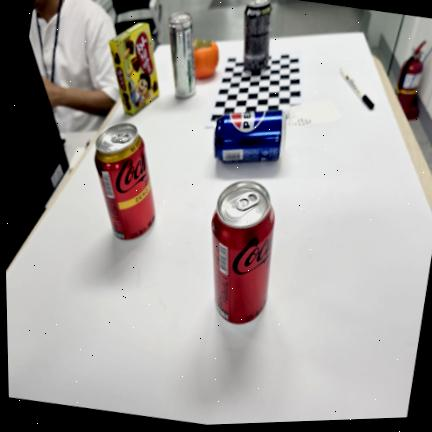can_coke_decaf: (94, 123, 156, 239)
can_coke_zero: (211, 181, 275, 323)
can_pepsi: (213, 110, 286, 163)
